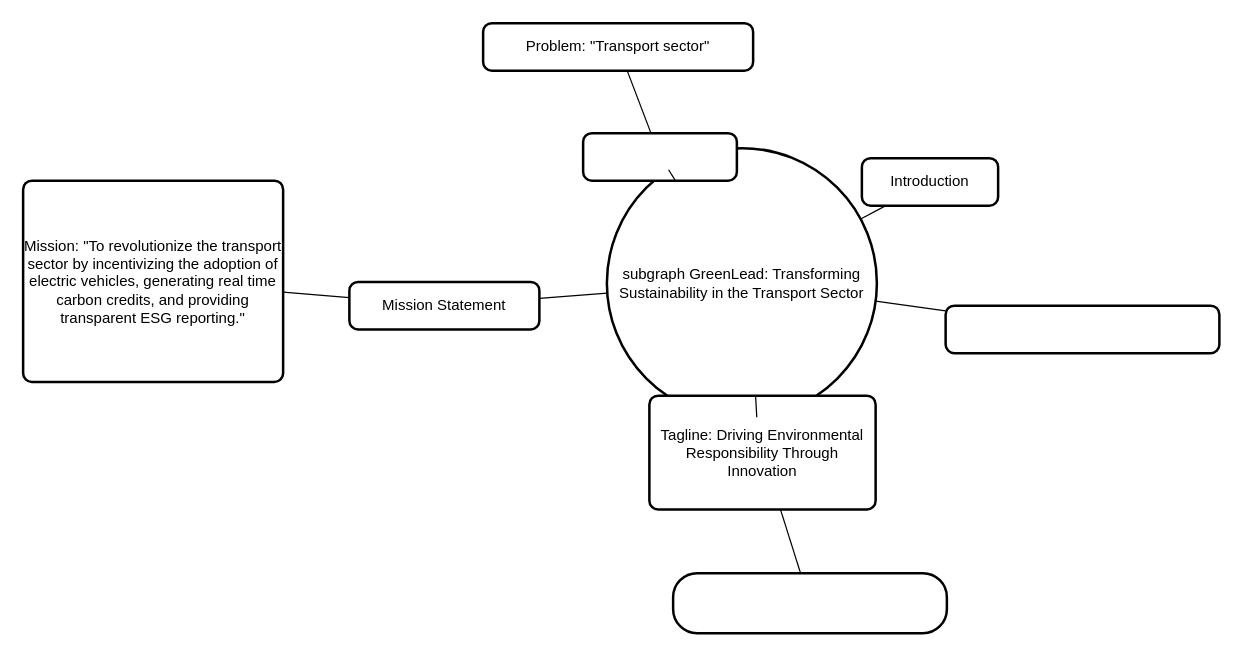
Some shapes in this 1241 by 655 pixel diagram are drawn without their labels. Here are the shapes that lost their labels. From the top down, the centre of each, then its label:
[659,156]: The Challenge
[1082,329]: Company Name: GreenLead
[809,602]: Include GreenLead's logo
